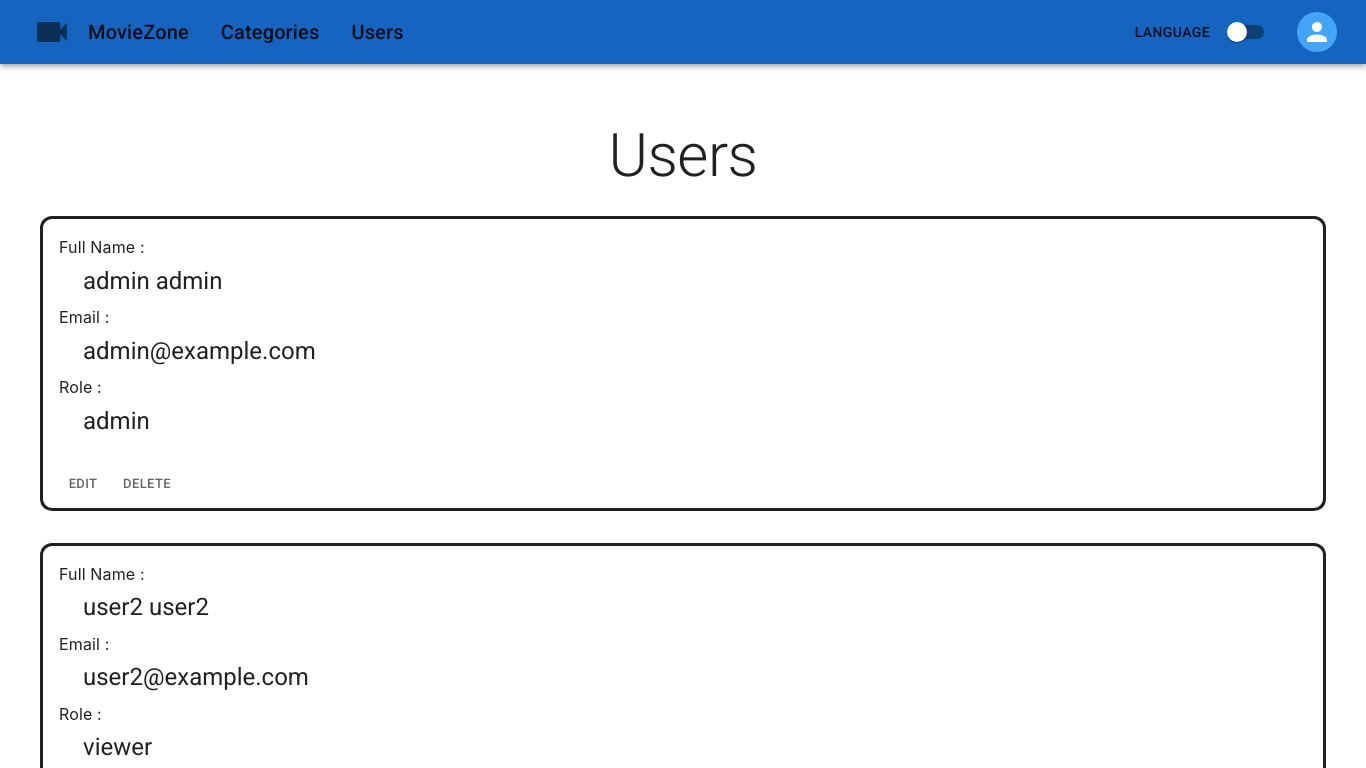
Test: user edit modal opens and shows correctly
Click the button "Edit" at [83, 484], box x1=51 y1=469 x2=115 y2=500
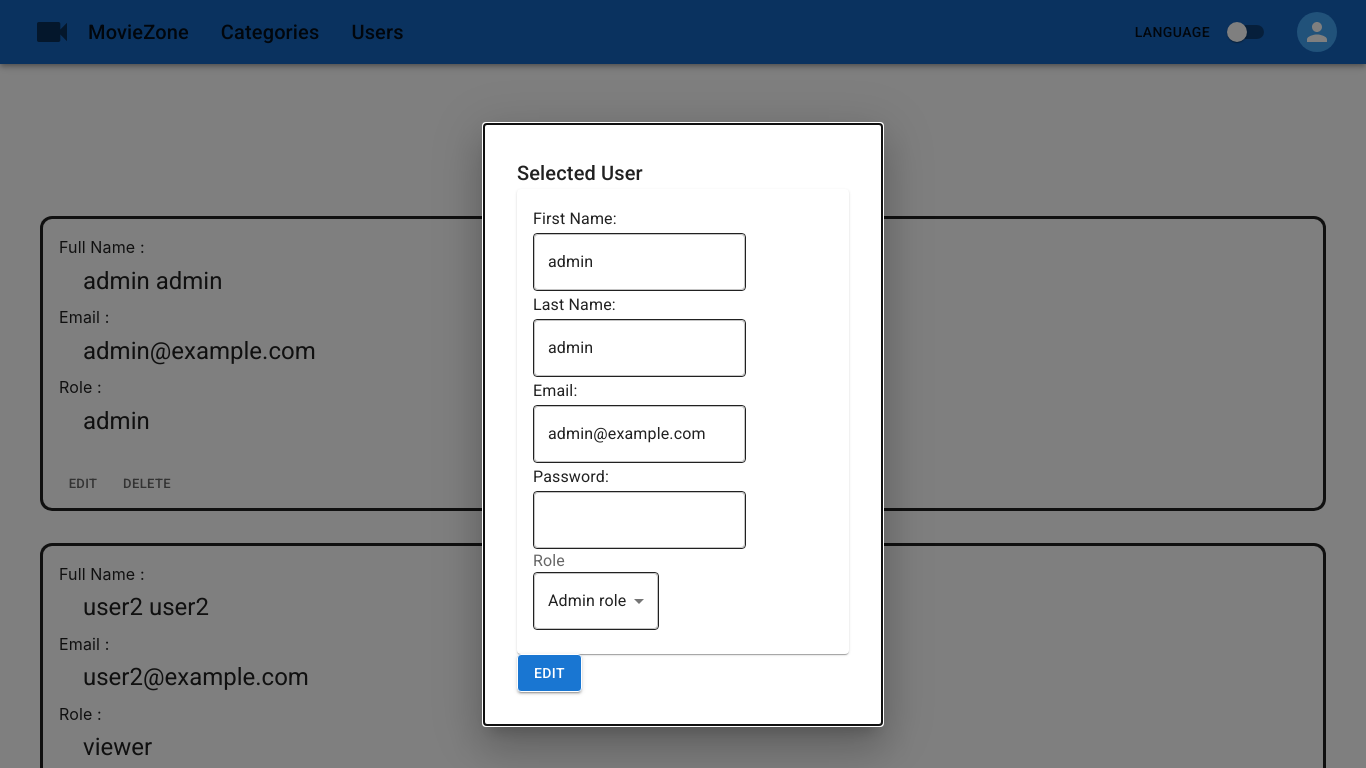
Check: the button "Edit" is shown, box x1=517 y1=654 x2=582 y2=692
Check: the field with test id "user-edit-modal-first_name" is shown, box x1=534 y1=234 x2=745 y2=290
Check: the field with test id "user-edit-modal-last_name" is shown, box x1=534 y1=320 x2=745 y2=376
